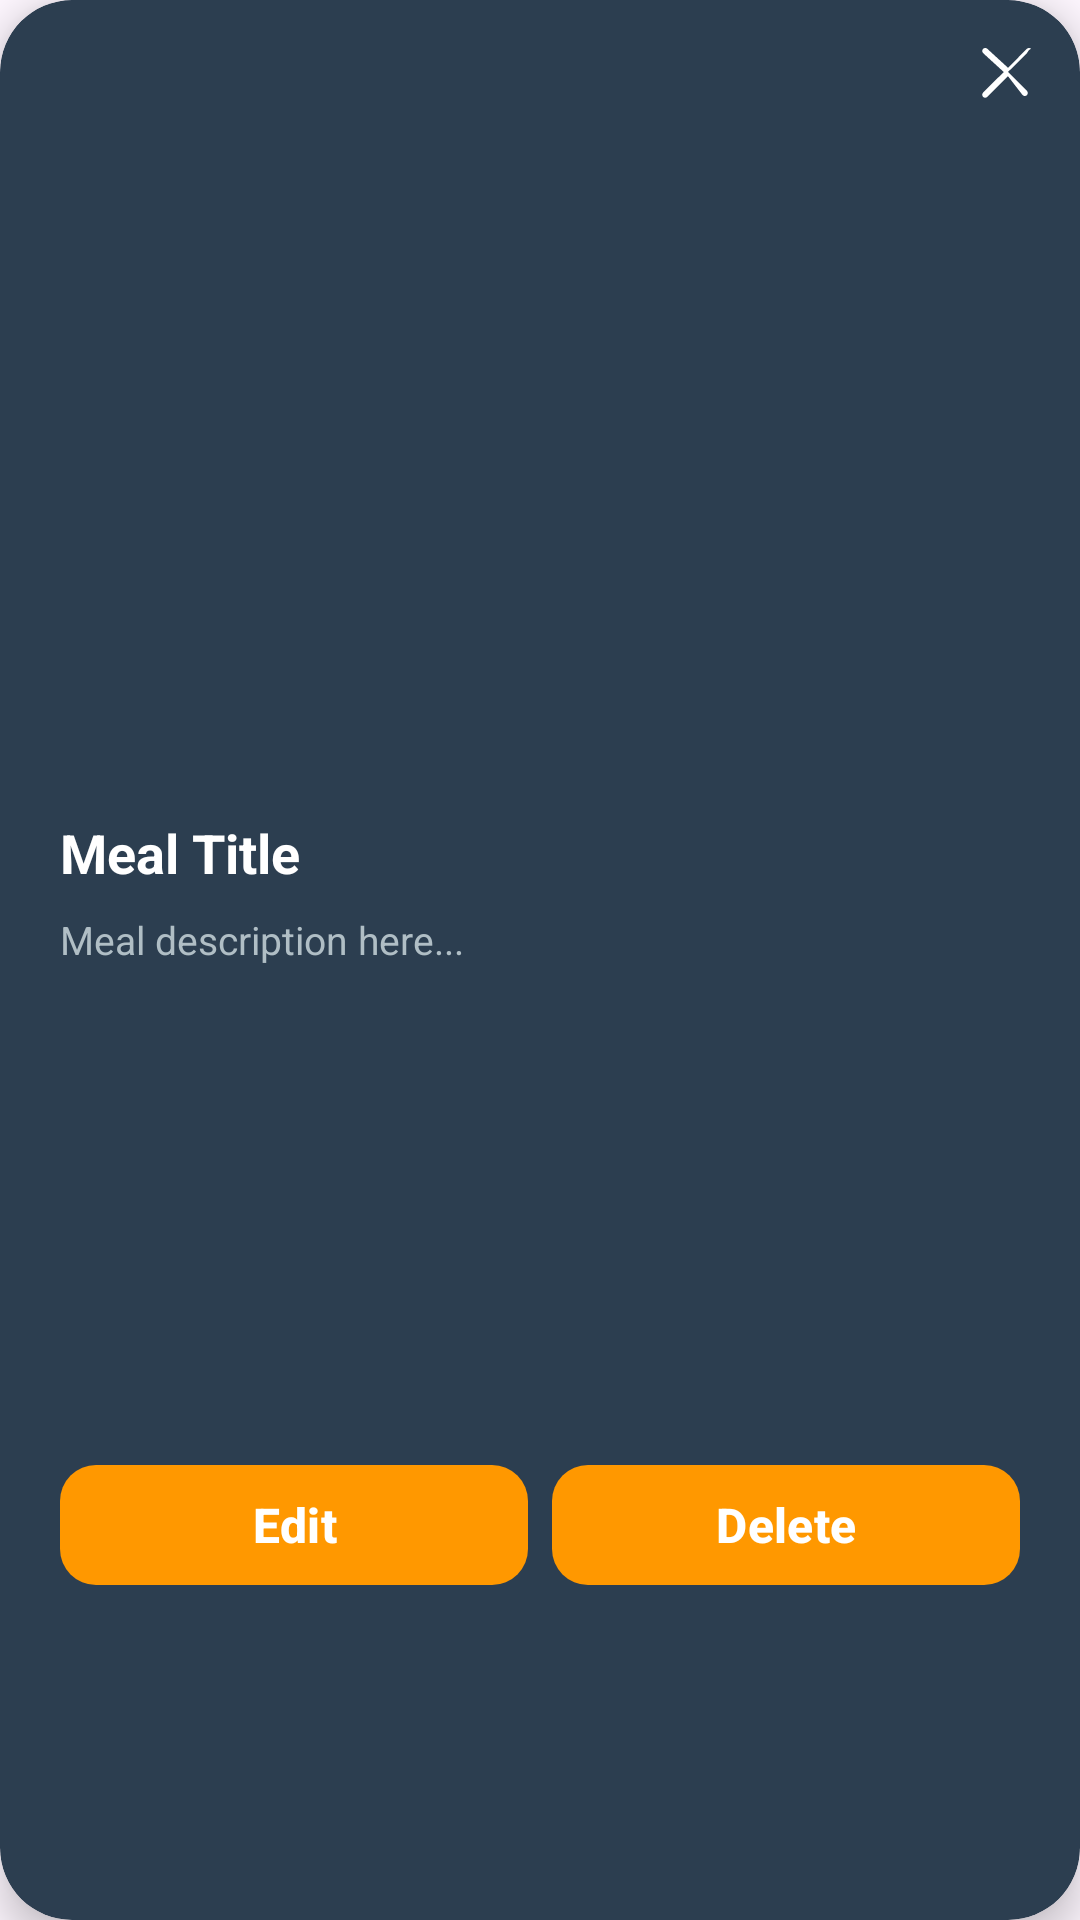

Icon bounding boxes for this 1080px×1920px phone screenshot, format (x1, y1, x2, y2):
Close dialog: (982, 48, 1031, 98)
